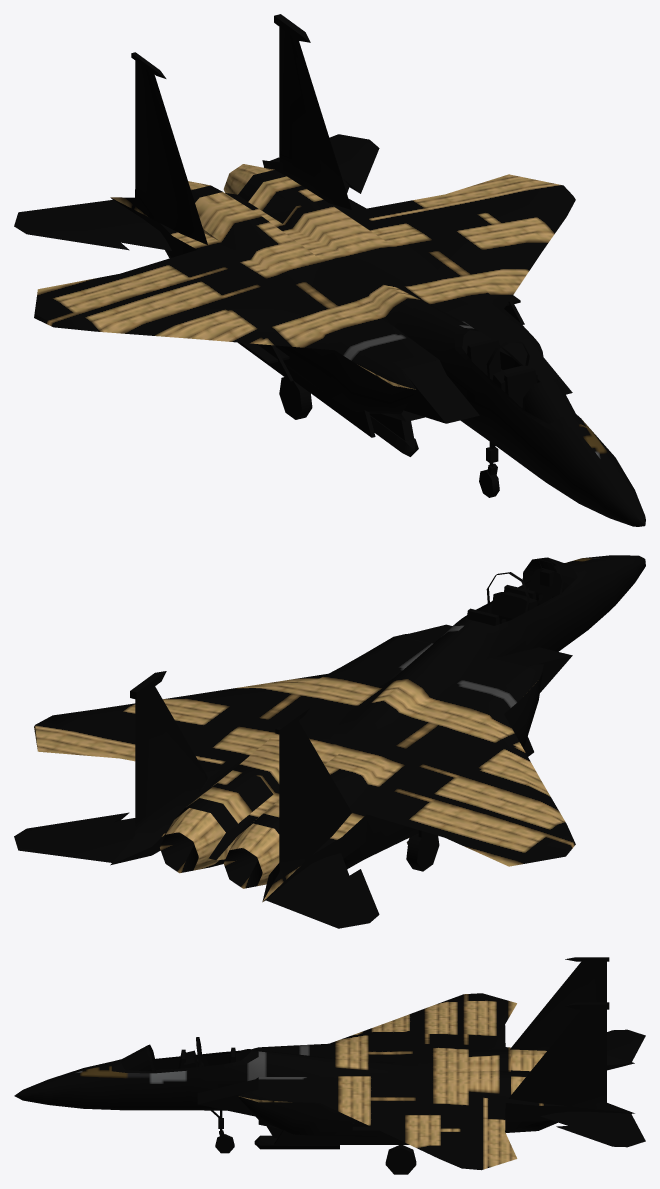
3 views of the same model, one above another, from view 1: azimuth 30°, elevation 25°; view 2: azimuth 150°, elevation 25°; view 3: azimuth 270°, elevation 25° (orthographic). The views are drawn at different scales.
Visible parts, largest first — view 1: body, lg2, lg1; view 2: body, lg2; view 3: body, lg3, lg1.
Part boxes in pixels (bbox=[...]): body: bbox=[14, 14, 645, 526]; lg2: bbox=[279, 377, 312, 419]; lg1: bbox=[479, 442, 499, 497]; body: bbox=[14, 555, 645, 928]; lg2: bbox=[406, 833, 439, 871]; body: bbox=[14, 957, 645, 1170]; lg3: bbox=[385, 1145, 416, 1174]; lg1: bbox=[211, 1110, 234, 1153].
Bounding box in the file's own units: 14.64 × 6.69 × 22.26.
